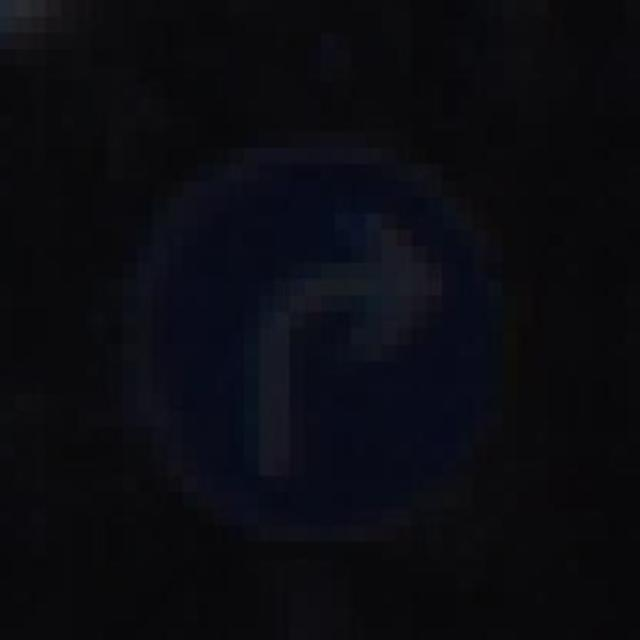Turn right ahead: (138, 140, 519, 552)
